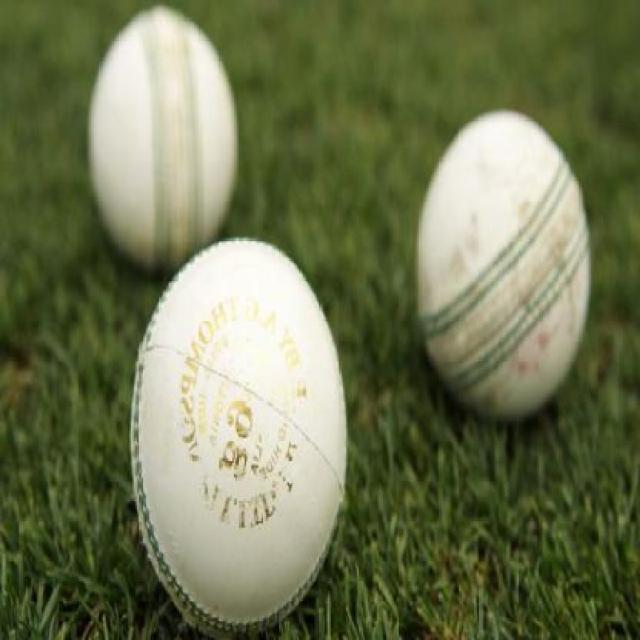ball: (100, 228, 367, 635), (404, 89, 604, 429)
